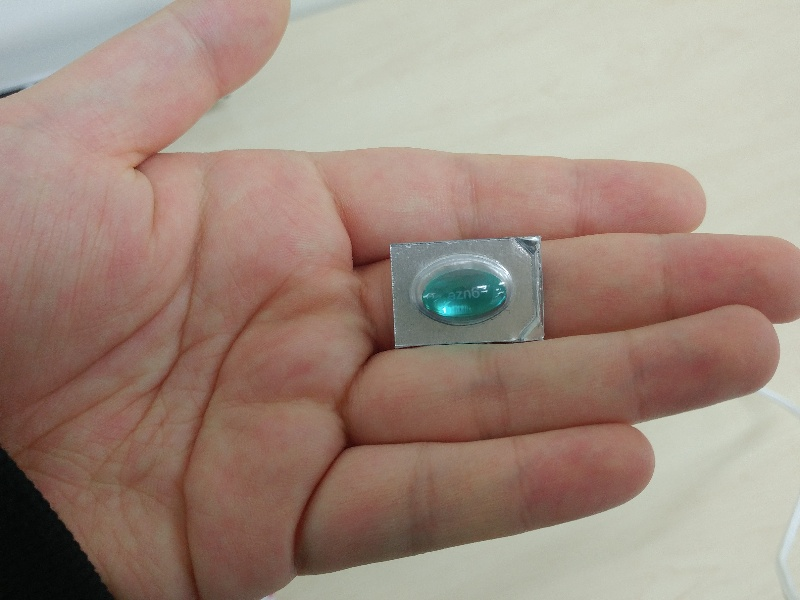pill_ezn: (391, 237, 546, 348)
